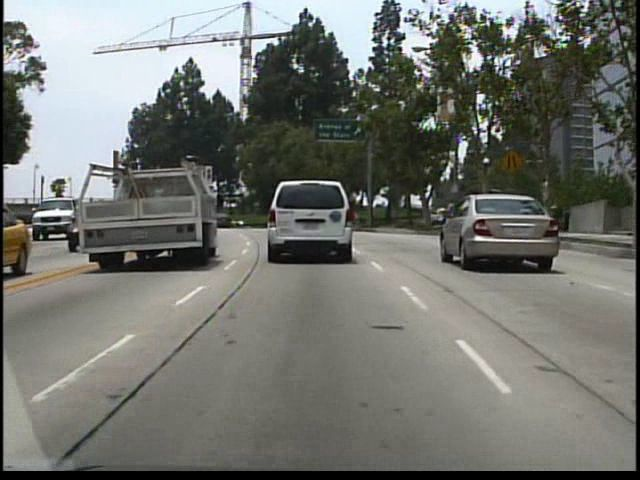person: (443, 193, 461, 233)
